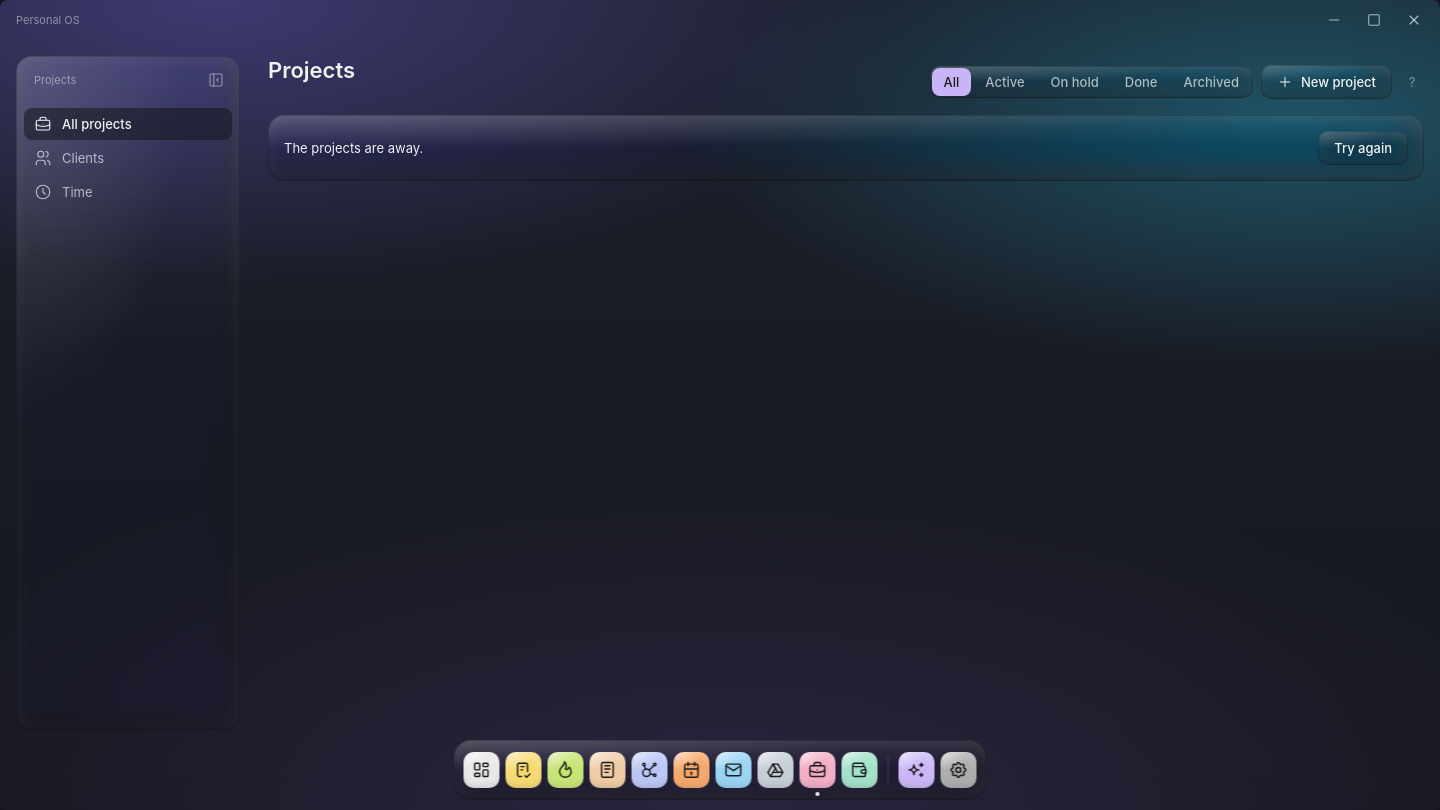
Scenario: projects list states › shows the server message with Try again on an error, and recovers
This screenshot has width=1440, height=810.
Expected: the message shows "The projects are away.", [284,140,423,156]
Click the button "Try again": [1363, 148] box [1318,131,1408,165]
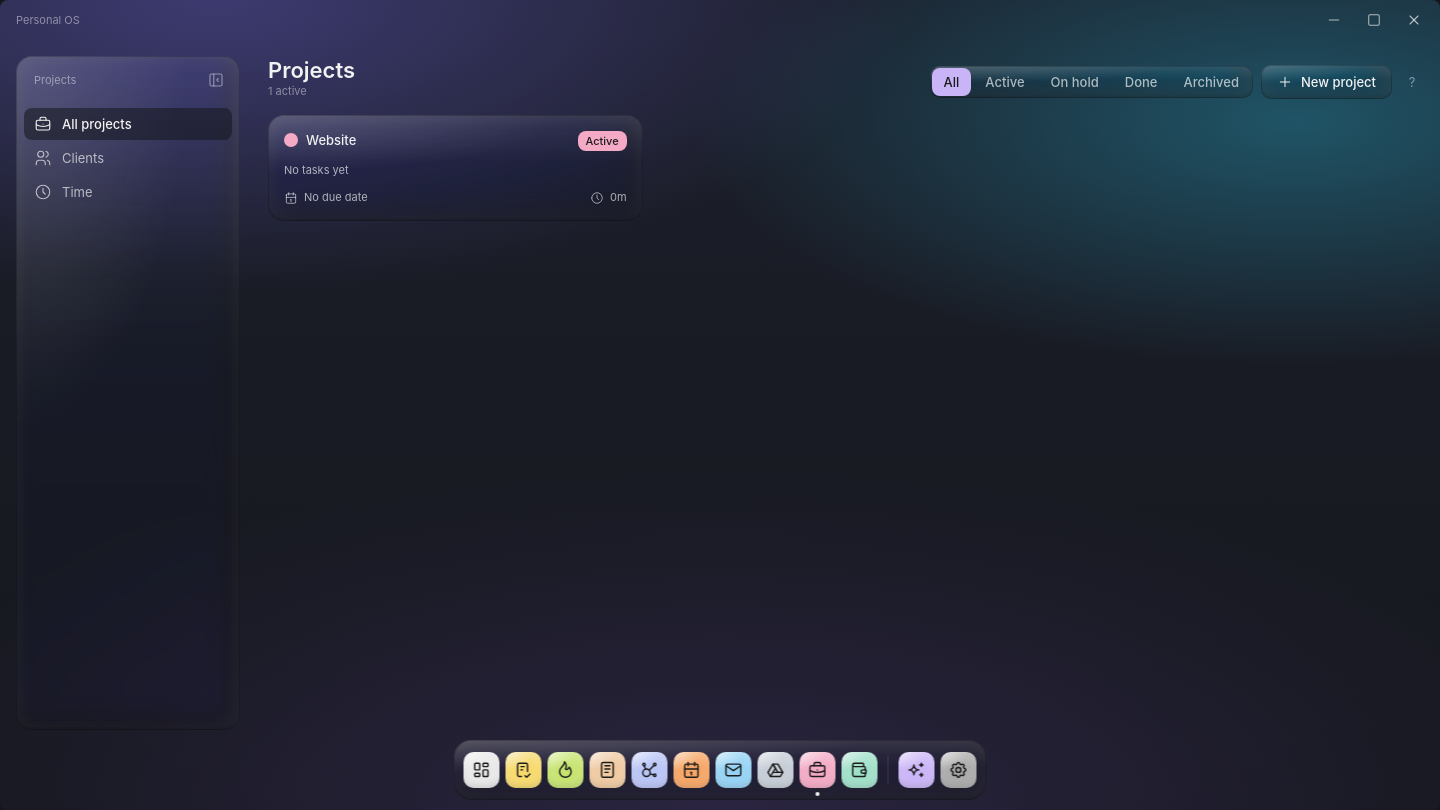
Result: the button "Website" is shown at [306,131,570,150]
